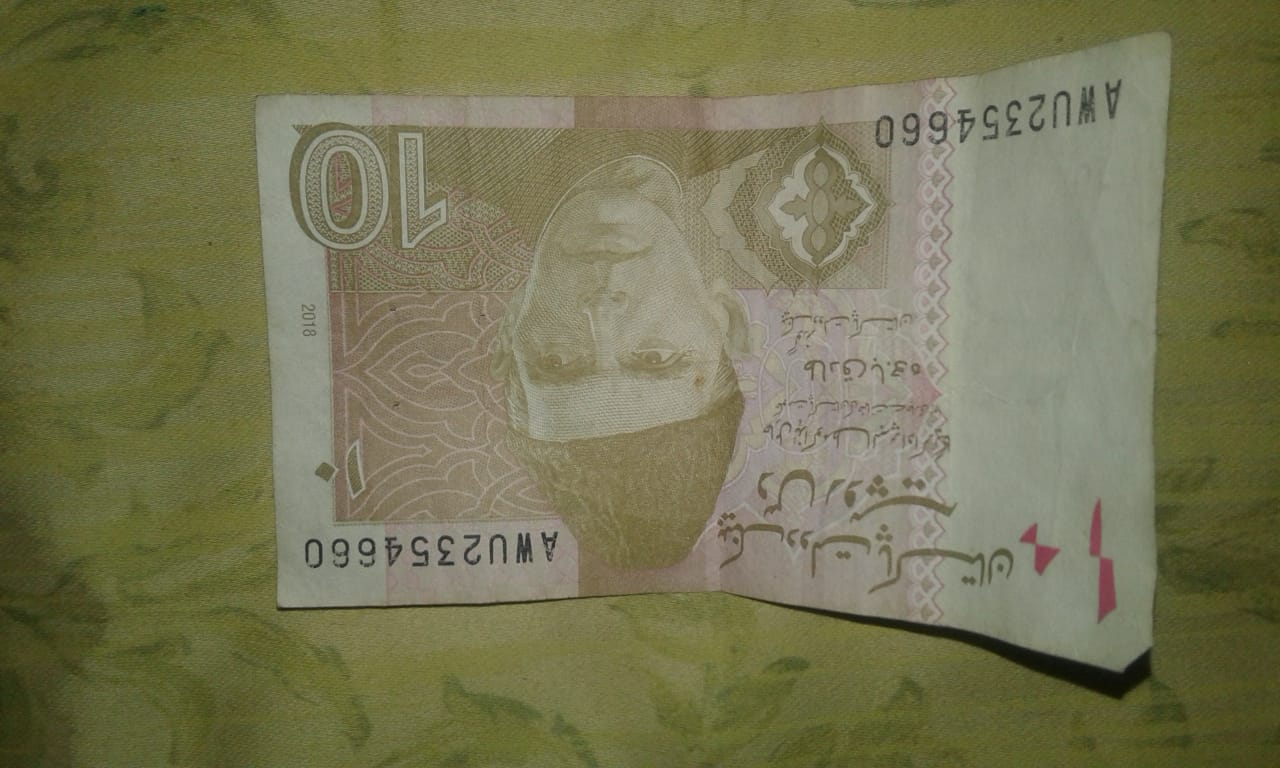10 rupee: (240, 39, 1208, 684)
